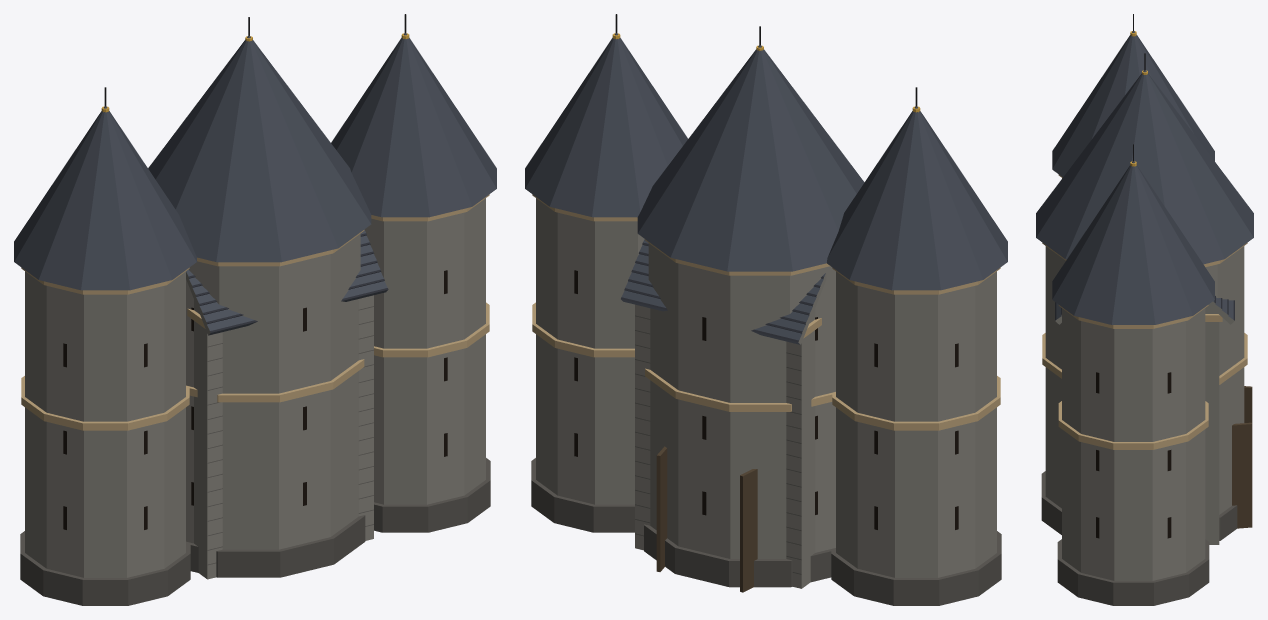
File: stadtmauer.glb
3 renders of one model, left to right at view 1: azimuth 30°, elevation 25°; view 2: azimuth 150°, elevation 25°; view 3: azimuth 270°, elevation 25°, orthographic. The views are drawn at different scales.
Parts seen in each view (by area): view 1: Tor, Eckturm; view 2: Tor, Eckturm; view 3: Tor, Eckturm.
Part boxes in pixels (left/top/right/bottom): Tor: left=14, top=14, right=496, bottom=605; Eckturm: left=148, top=17, right=371, bottom=577; Tor: left=525, top=14, right=1007, bottom=605; Eckturm: left=637, top=26, right=864, bottom=587; Tor: left=1052, top=14, right=1252, bottom=605; Eckturm: left=1036, top=53, right=1253, bottom=540.
Size of the model in its own units: 16.5 by 17.6 by 7.63.
